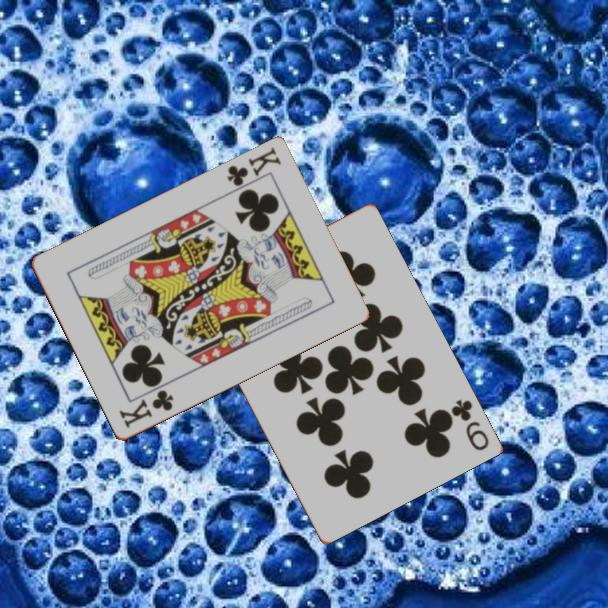c09: (447, 395, 492, 454)
c13: (223, 144, 284, 190), (115, 387, 176, 431)
